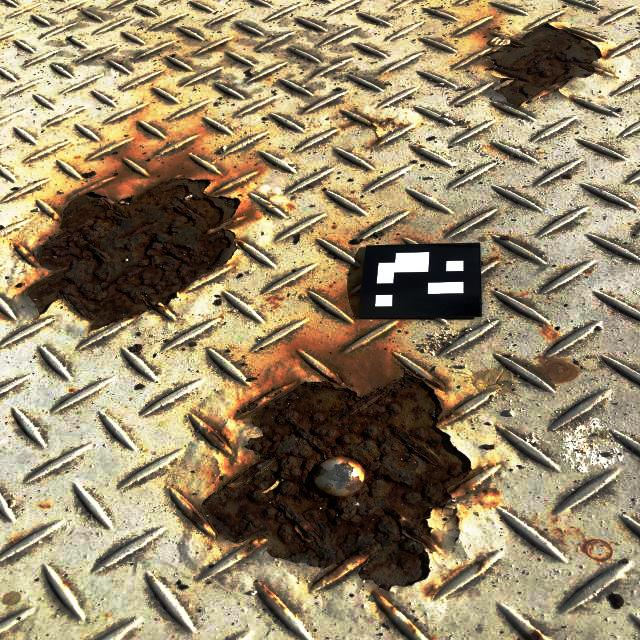Corrosion: (190, 350, 472, 590), (22, 179, 243, 332), (485, 25, 603, 107), (206, 422, 232, 453), (526, 630, 543, 640)
